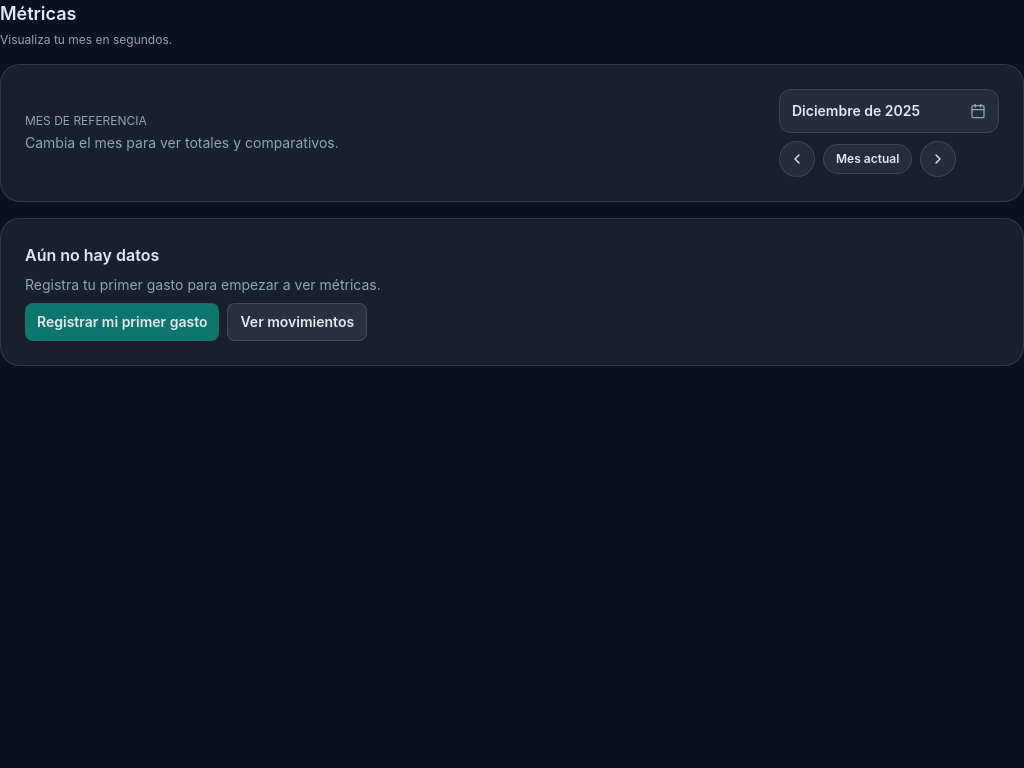
Scenario: selectedMonth sync (Metrics -> Movimientos) › changes month in Metrics and opens Movimientos for that month
Replace the text in the field showing "2025-12" with "2025-11" at (889, 111), box [779, 89, 999, 133]
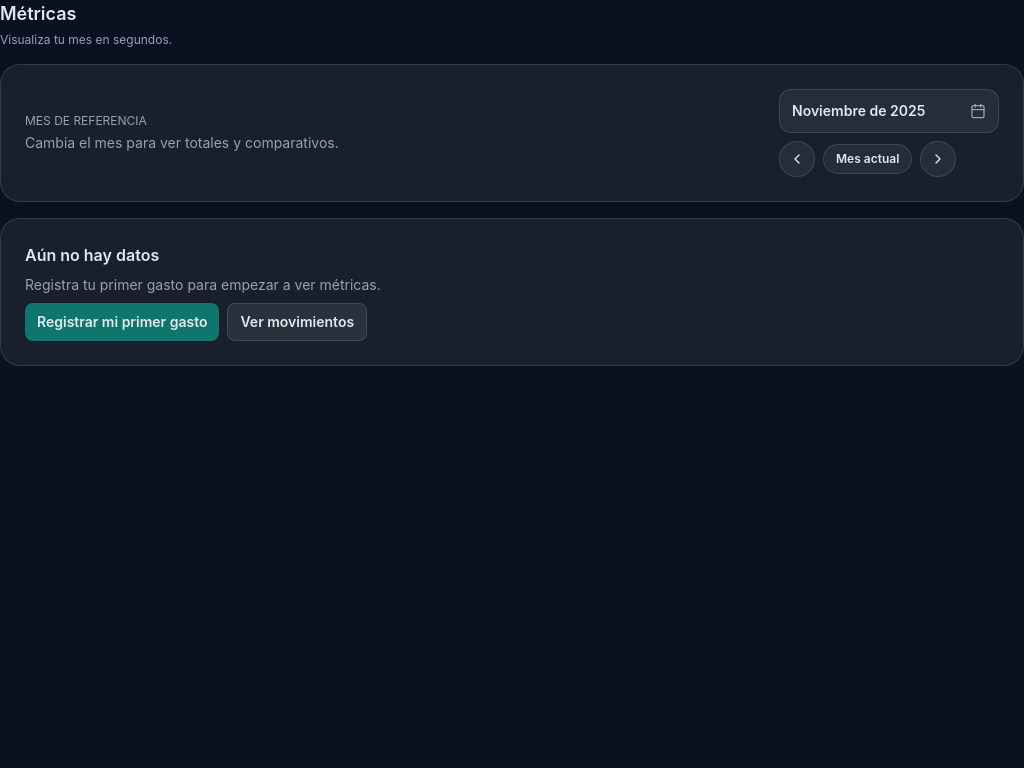
Click the button "Ver movimientos".
click(297, 322)  # box [228, 303, 367, 341]
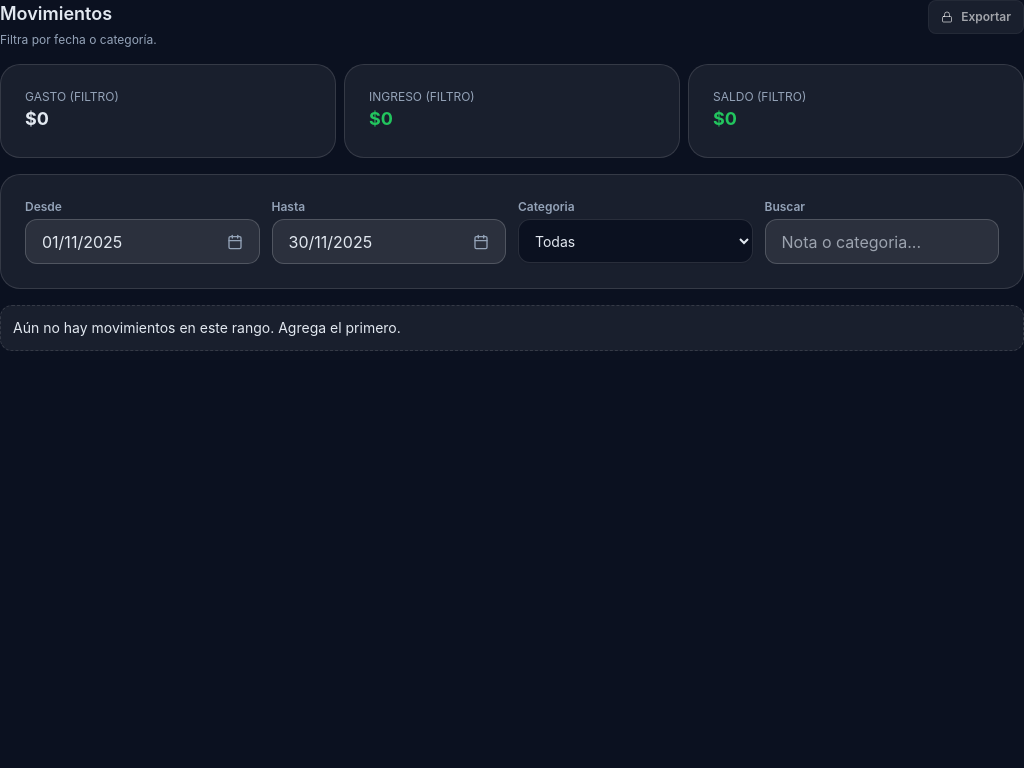
Result: the heading "Movimientos" is shown at [0, 3, 112, 24]
Result: the element named "Desde" holds "2025-11-01" at [25, 219, 260, 264]
Result: the element named "Hasta" holds "2025-11-30" at [272, 219, 506, 264]
